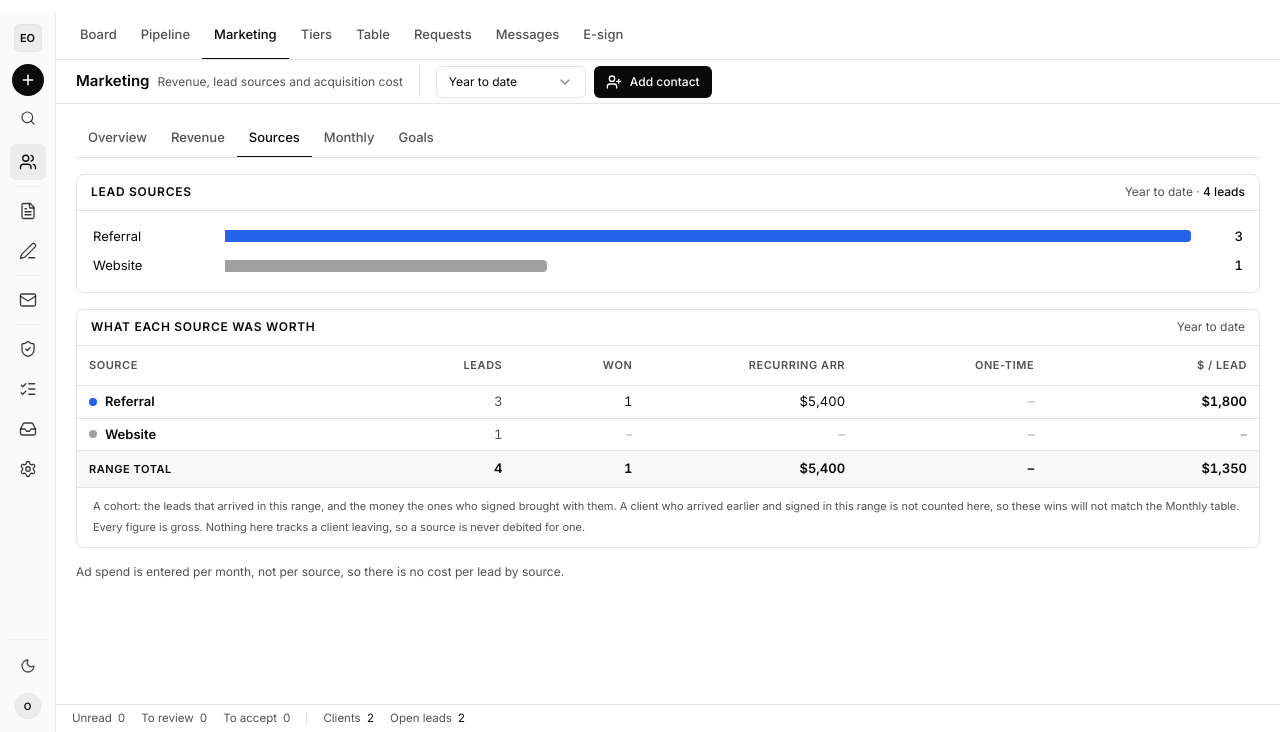
Test case: the marketing page › a failed write that moved the person out of the list is still reported, and the figure goes back
Expected: the heading "What each source was worth" is shown, x1=91 y1=319 x2=316 y2=335
Click the button "Referral".
click(130, 401)  # box x1=89 y1=392 x2=372 y2=412
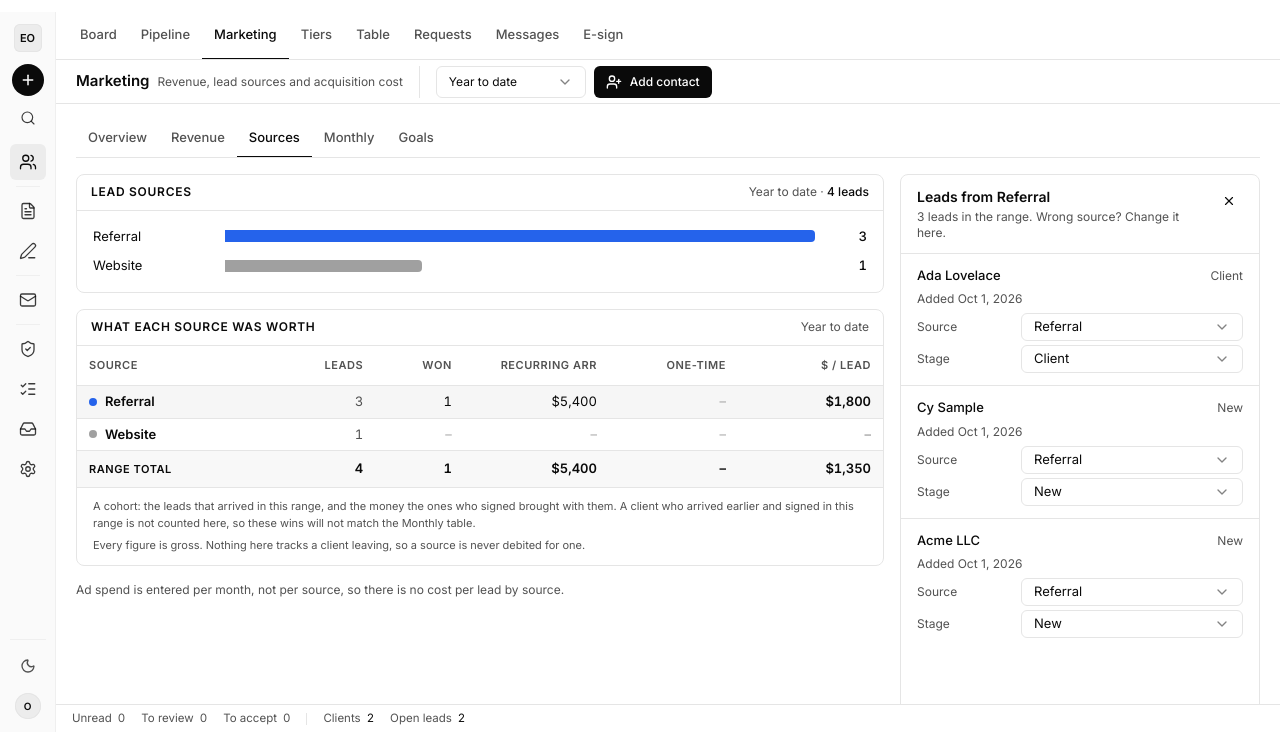
Press ArrowDown in the dropdown named "Source for Cy Sample", box x1=1021 y1=446 x2=1243 y2=474
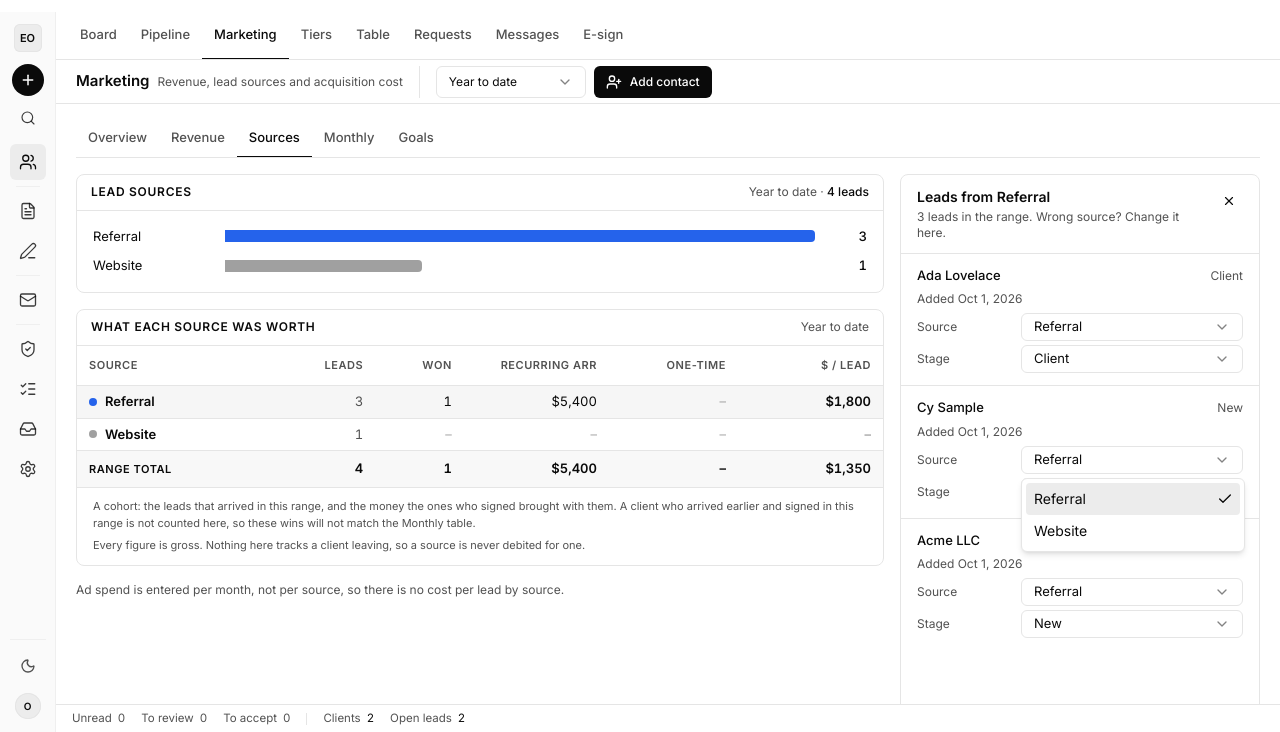
Click the option "Website".
click(1061, 530)  # box x1=1034 y1=522 x2=1087 y2=539
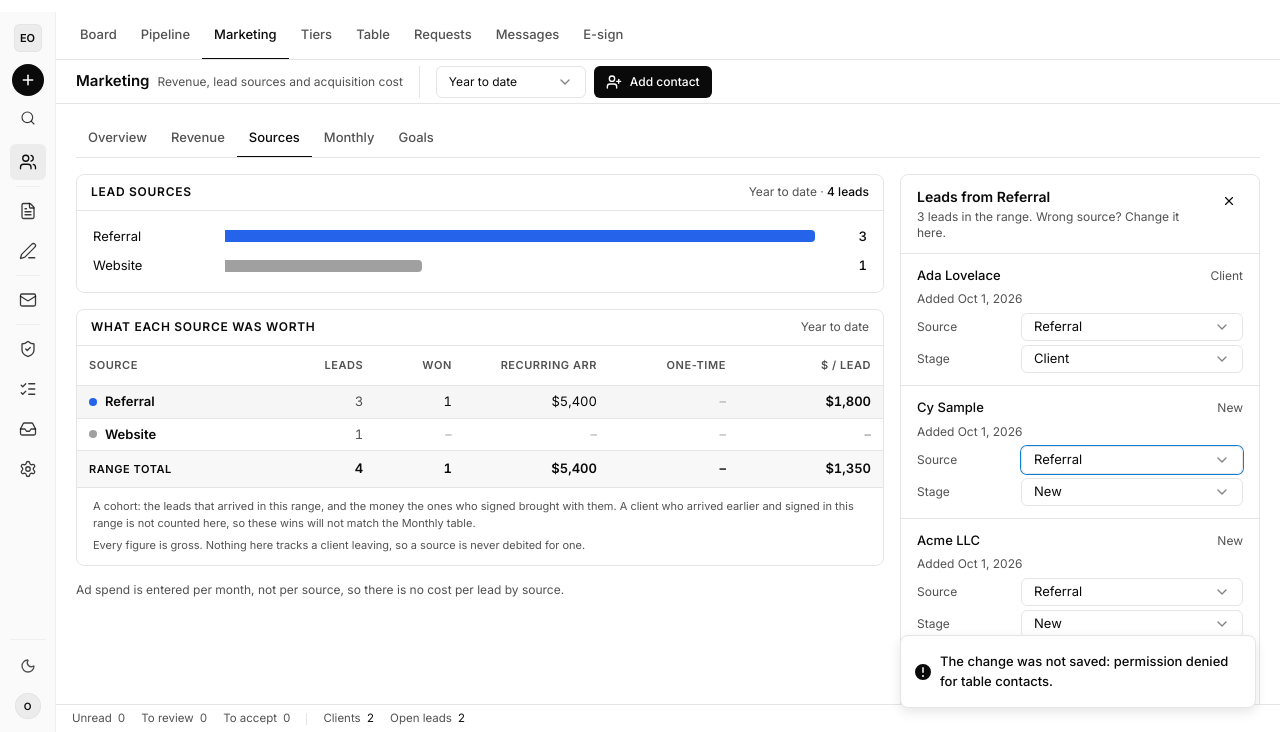
Now the number of links "Ada Lovelace" is 3, box x1=917 y1=266 x2=1001 y2=282; x1=917 y1=399 x2=984 y2=415; x1=917 y1=532 x2=980 y2=548
Now the text "The change was not saved: permission denied" is shown, box x1=940 y1=653 x2=1228 y2=688
